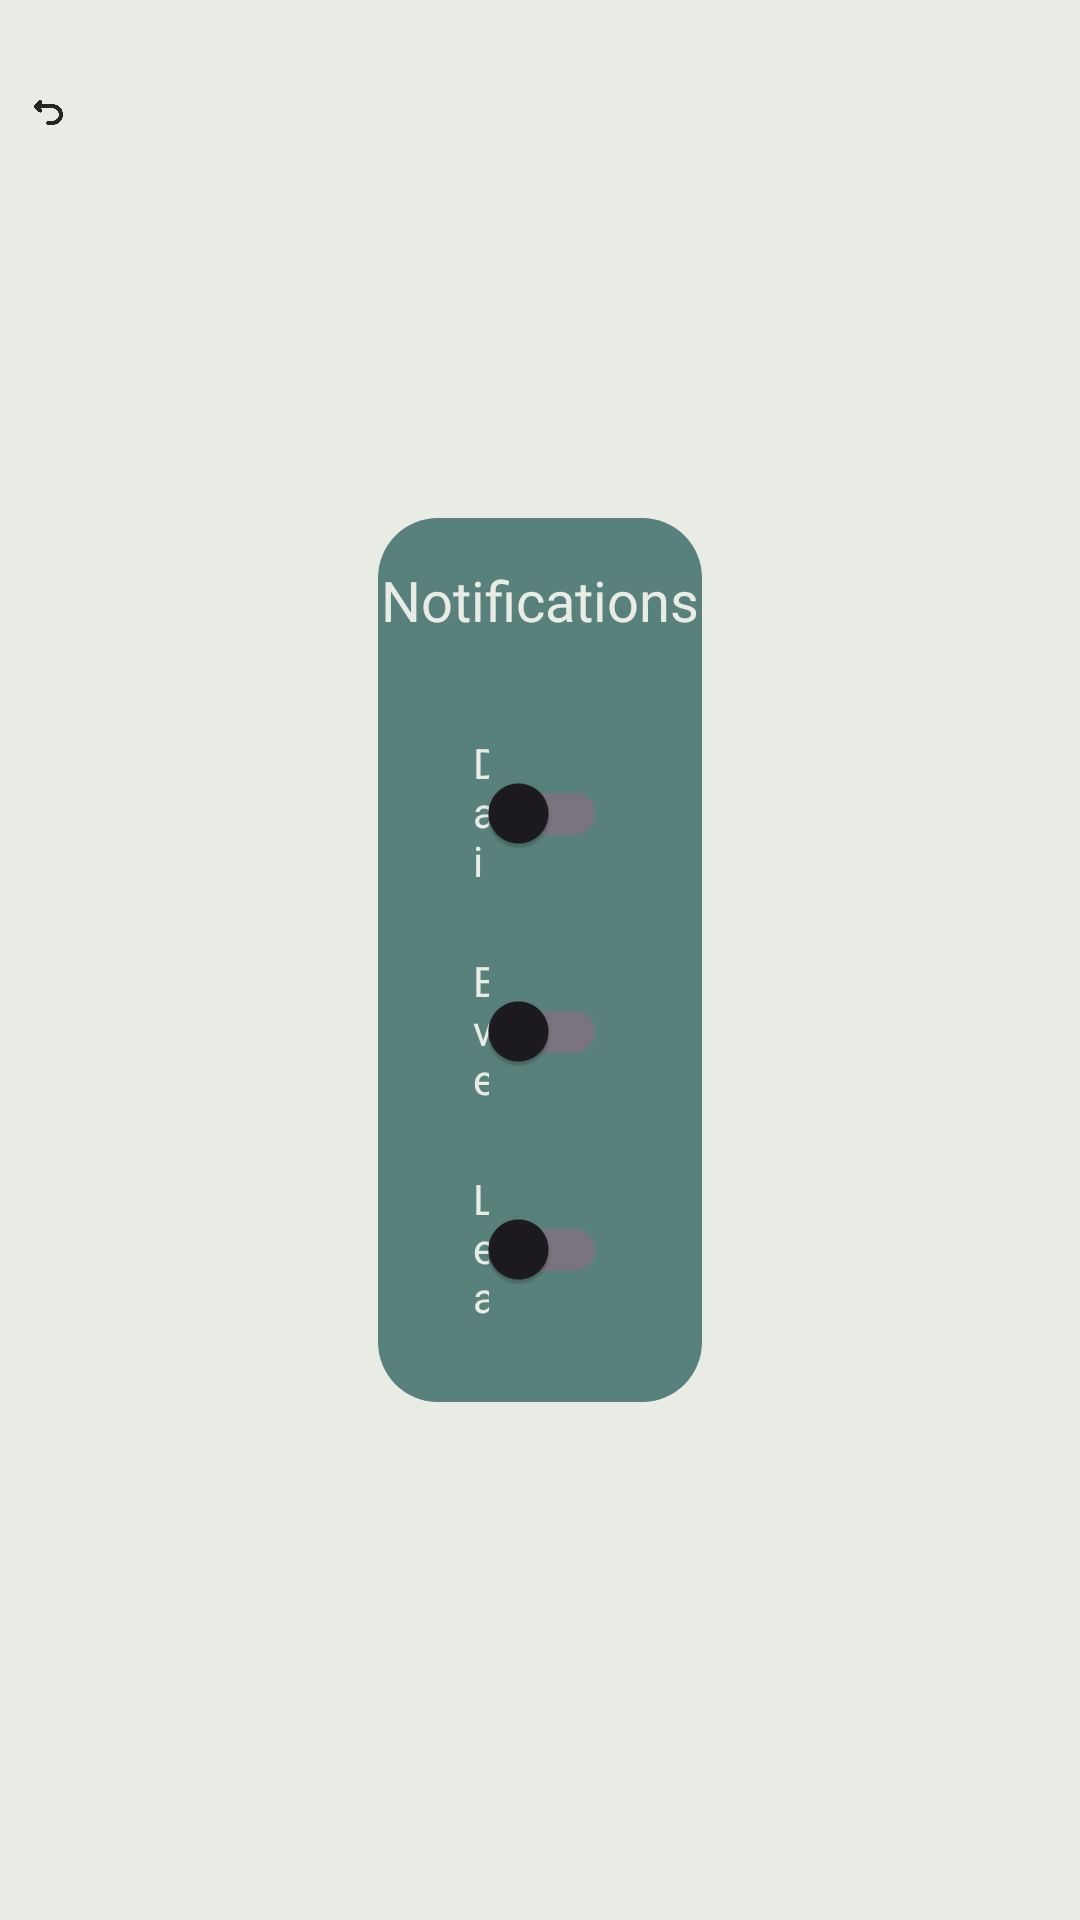

Icons on this 1080px×1920px Android screen, each with its box as [x1, y1, x2, y2]:
back: [34, 100, 63, 125]
